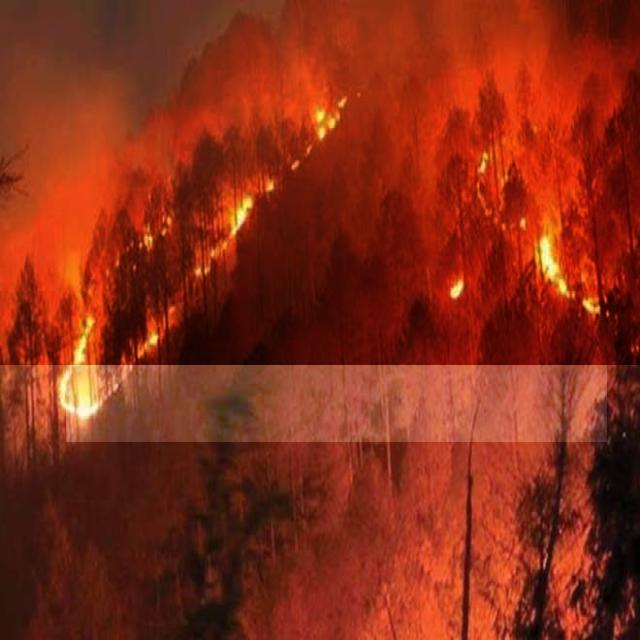Fire: (66, 73, 607, 442)
Smoke: (0, 0, 640, 365)
